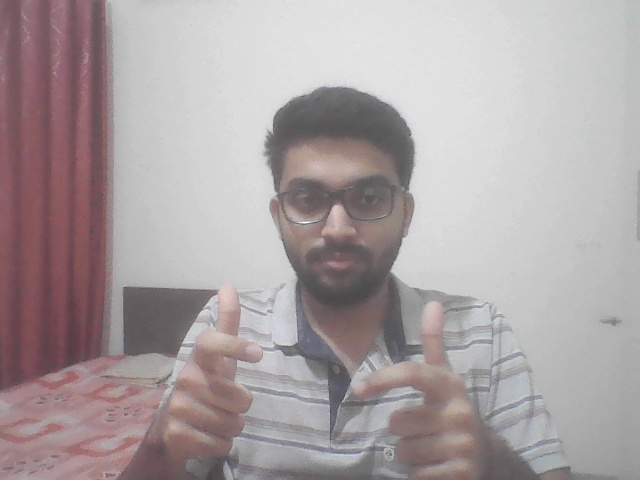big: (143, 283, 519, 480)
